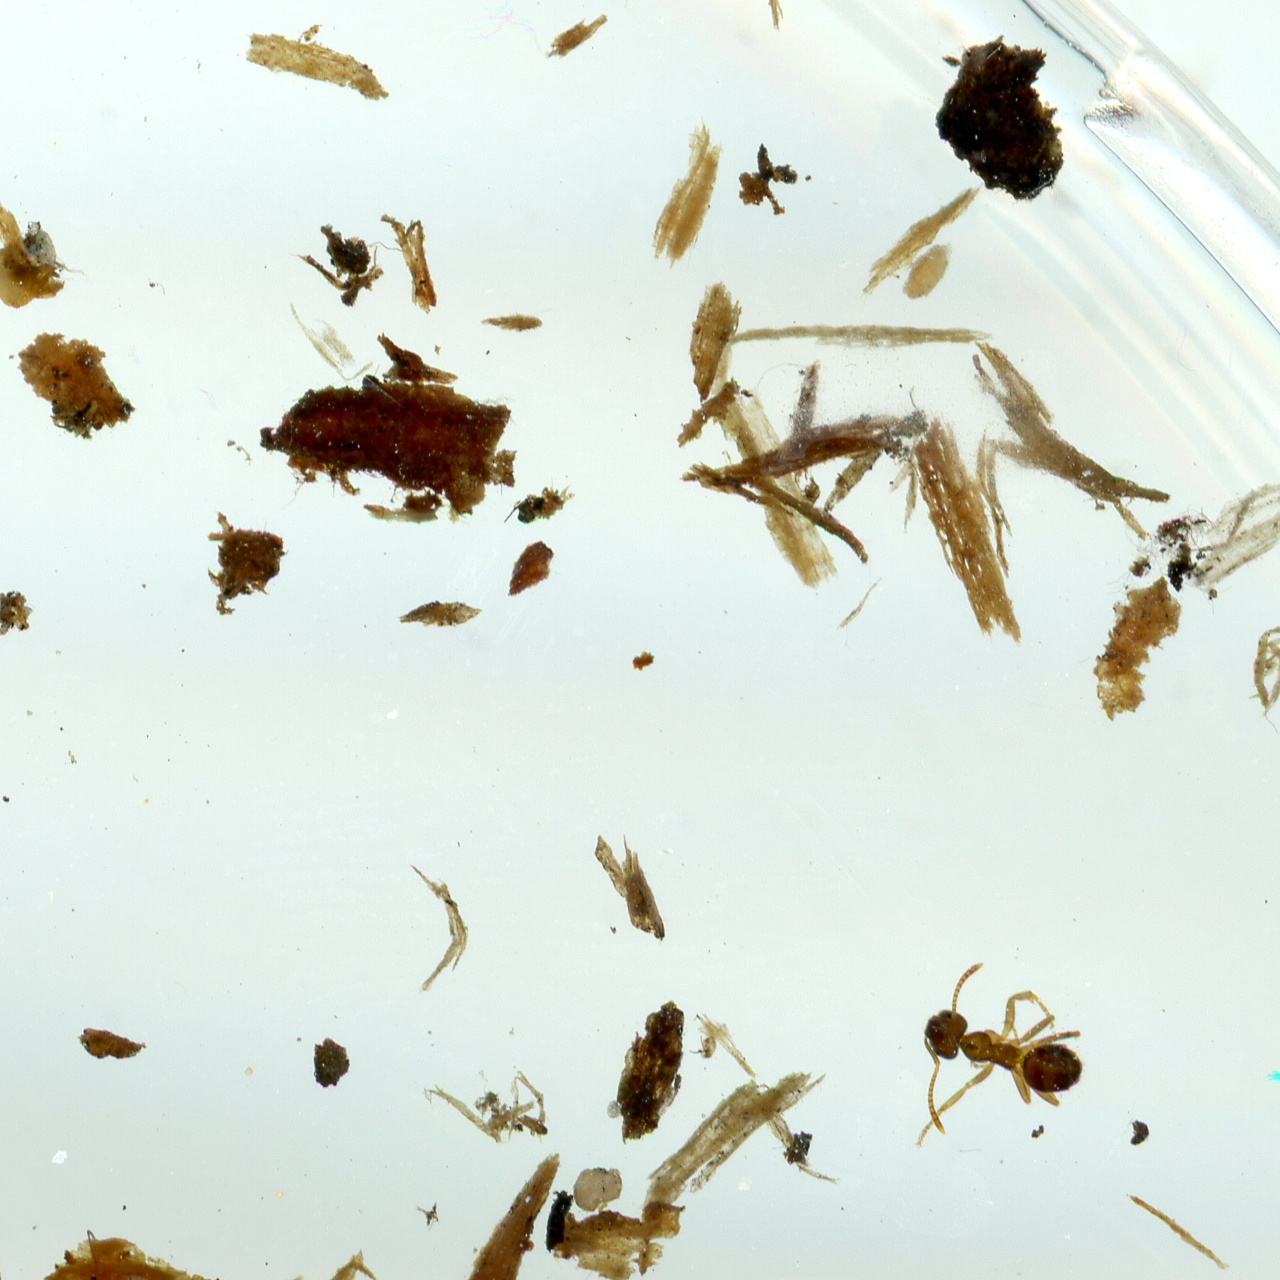arthropod: (908, 959, 1088, 1152), (688, 1034, 719, 1060)
